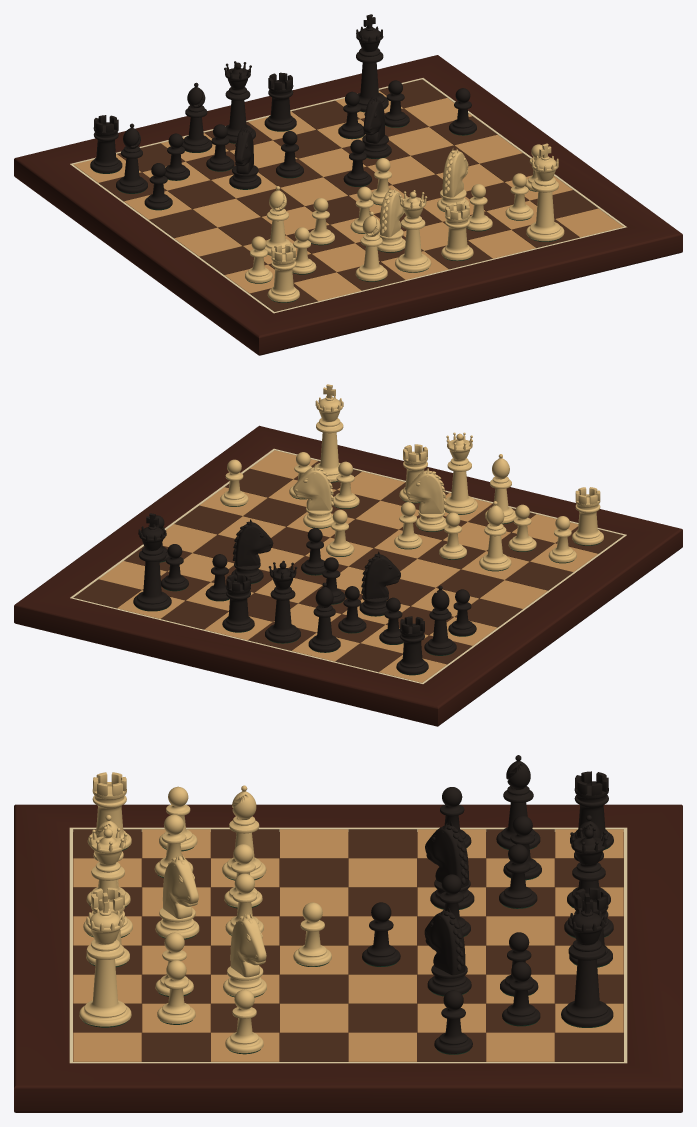
The model's file is chess-set.glb.
3 renders of one model, top to bottom at view 1: azimuth 30°, elevation 25°; view 2: azimuth 150°, elevation 25°; view 3: azimuth 270°, elevation 25°, orthographic. The views are drawn at different scales.
Visible parts, largest first — view 1: border, squares_light, squares_dark, black_pawns_wood, white_pawns_wood, white_rooks_wood, black_rooks_wood, white_knights_wood, black_knights_wood, black_bishops_wood, white_bishops_wood, white_king_wood (+4 smaller); view 2: border, squares_dark, squares_light, white_pawns_wood, black_pawns_wood, white_knights_wood, black_knights_wood, black_rooks_wood, black_bishops_wood, white_rooks_wood, white_bishops_wood, black_king_wood (+4 smaller); view 3: border, squares_dark, squares_light, black_pawns_wood, white_pawns_wood, black_knights_wood, white_knights_wood, stringing, white_king_wood, black_king_wood, black_rooks_wood, white_rooks_wood (+4 smaller).
Part boxes in pixels (left/top/right/bottom): border: left=14, top=55, right=682, bottom=355; squares_light: left=73, top=90, right=623, bottom=301; squares_dark: left=99, top=79, right=597, bottom=311; black_pawns_wood: left=144, top=80, right=476, bottom=209; white_pawns_wood: left=245, top=144, right=542, bottom=282; white_rooks_wood: left=267, top=202, right=473, bottom=302; black_rooks_wood: left=90, top=72, right=296, bottom=173; white_knights_wood: left=377, top=148, right=469, bottom=251; black_knights_wood: left=229, top=96, right=391, bottom=189; black_bishops_wood: left=116, top=82, right=212, bottom=193; white_bishops_wood: left=264, top=186, right=387, bottom=281; white_king_wood: left=526, top=143, right=564, bottom=241; border: left=14, top=425, right=682, bottom=726; squares_dark: left=73, top=461, right=623, bottom=672; squares_light: left=99, top=450, right=597, bottom=682; white_pawns_wood: left=220, top=452, right=576, bottom=562; black_pawns_wood: left=149, top=515, right=476, bottom=644; white_knights_wood: left=293, top=464, right=447, bottom=531; black_knights_wood: left=231, top=519, right=400, bottom=615; black_rooks_wood: left=222, top=573, right=428, bottom=674; black_bishops_wood: left=308, top=582, right=456, bottom=655; white_rooks_wood: left=399, top=444, right=603, bottom=545; white_bishops_wood: left=479, top=454, right=516, bottom=570; black_king_wood: left=133, top=513, right=171, bottom=610; border: left=14, top=804, right=682, bottom=1112; squares_dark: left=73, top=829, right=623, bottom=1061; squares_light: left=73, top=829, right=623, bottom=1061; black_pawns_wood: left=362, top=787, right=541, bottom=1053; white_pawns_wood: left=154, top=786, right=331, bottom=1053; black_knights_wood: left=424, top=821, right=474, bottom=995; white_knights_wood: left=155, top=854, right=266, bottom=996; stringing: left=69, top=827, right=627, bottom=1063; white_king_wood: left=79, top=892, right=131, bottom=1026; black_king_wood: left=561, top=893, right=613, bottom=1027; black_rooks_wood: left=569, top=771, right=613, bottom=966; white_rooks_wood: left=86, top=772, right=131, bottom=966.
Bounding box in the file's own units: 0.486 × 0.12 × 0.486.
